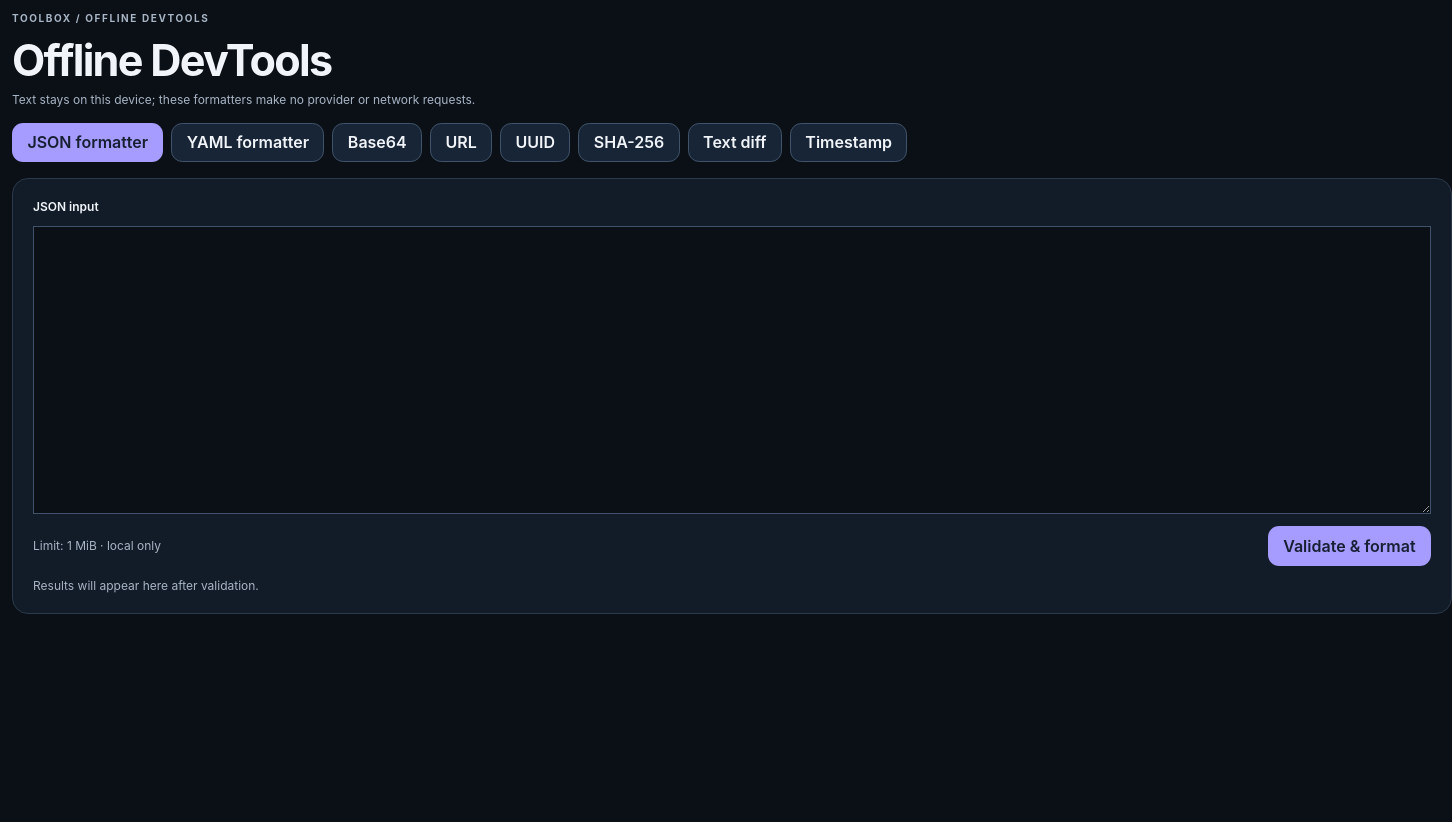
Test: M3-022 timestamp DevTools panel › shows UTC, device-local timezone and both Unix units
Click the button "Timestamp" at (849, 142), box [790,123,907,162]
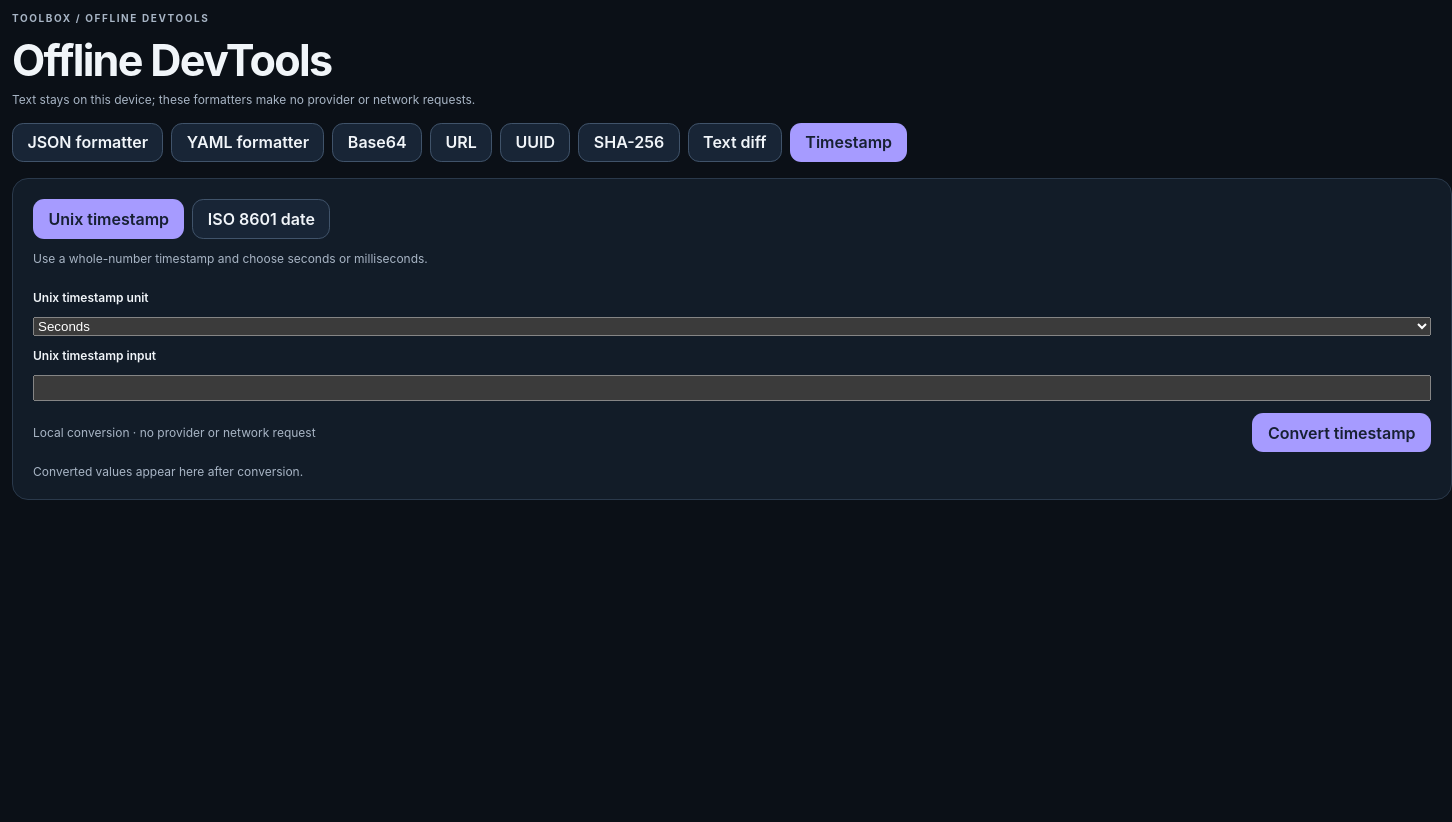
Type "0" into the field labelled "Unix timestamp input" at (732, 388), box [33,375,1431,401]
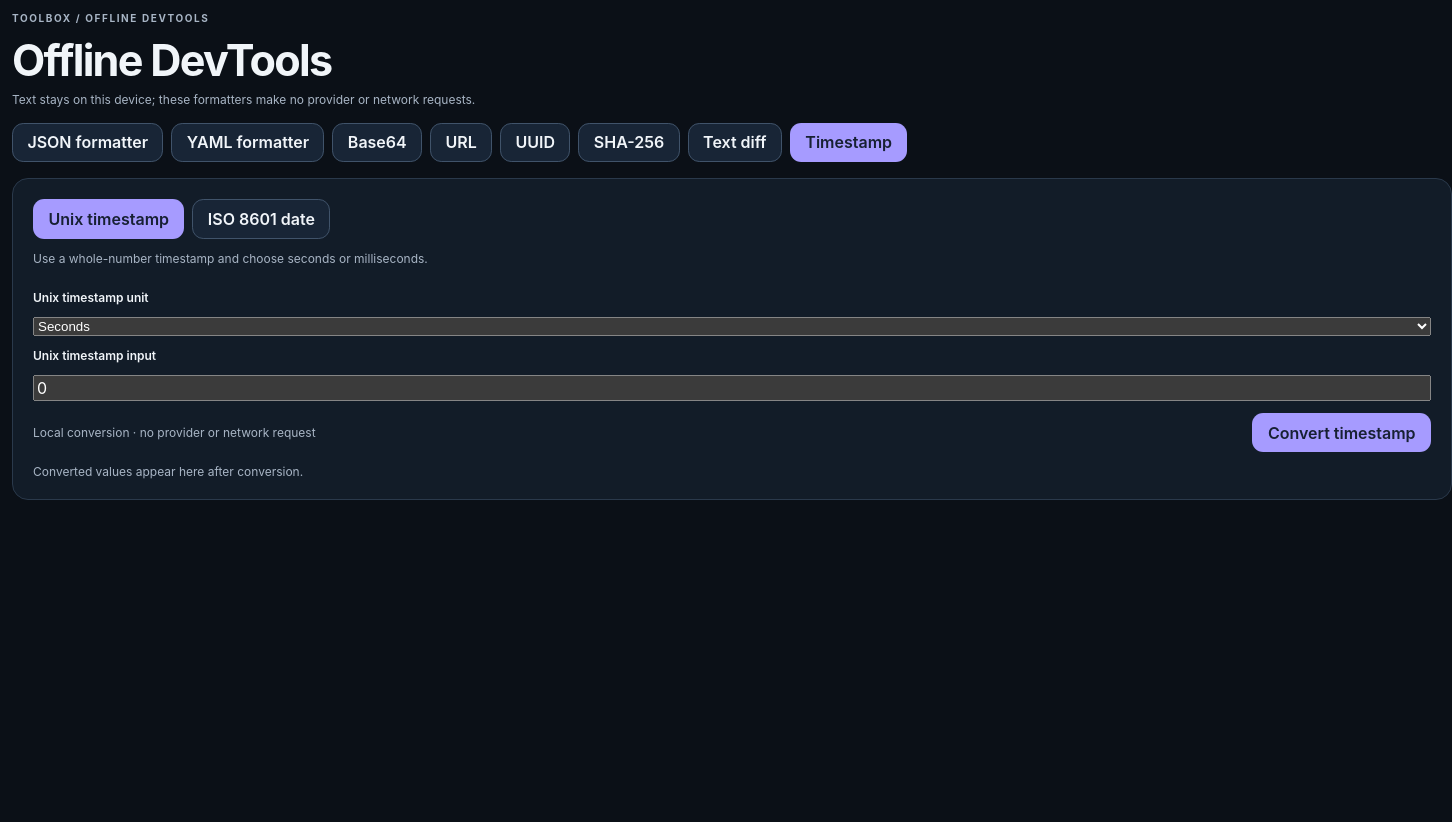
Click the button "Convert timestamp" at (1342, 433), box [1252,413,1431,452]
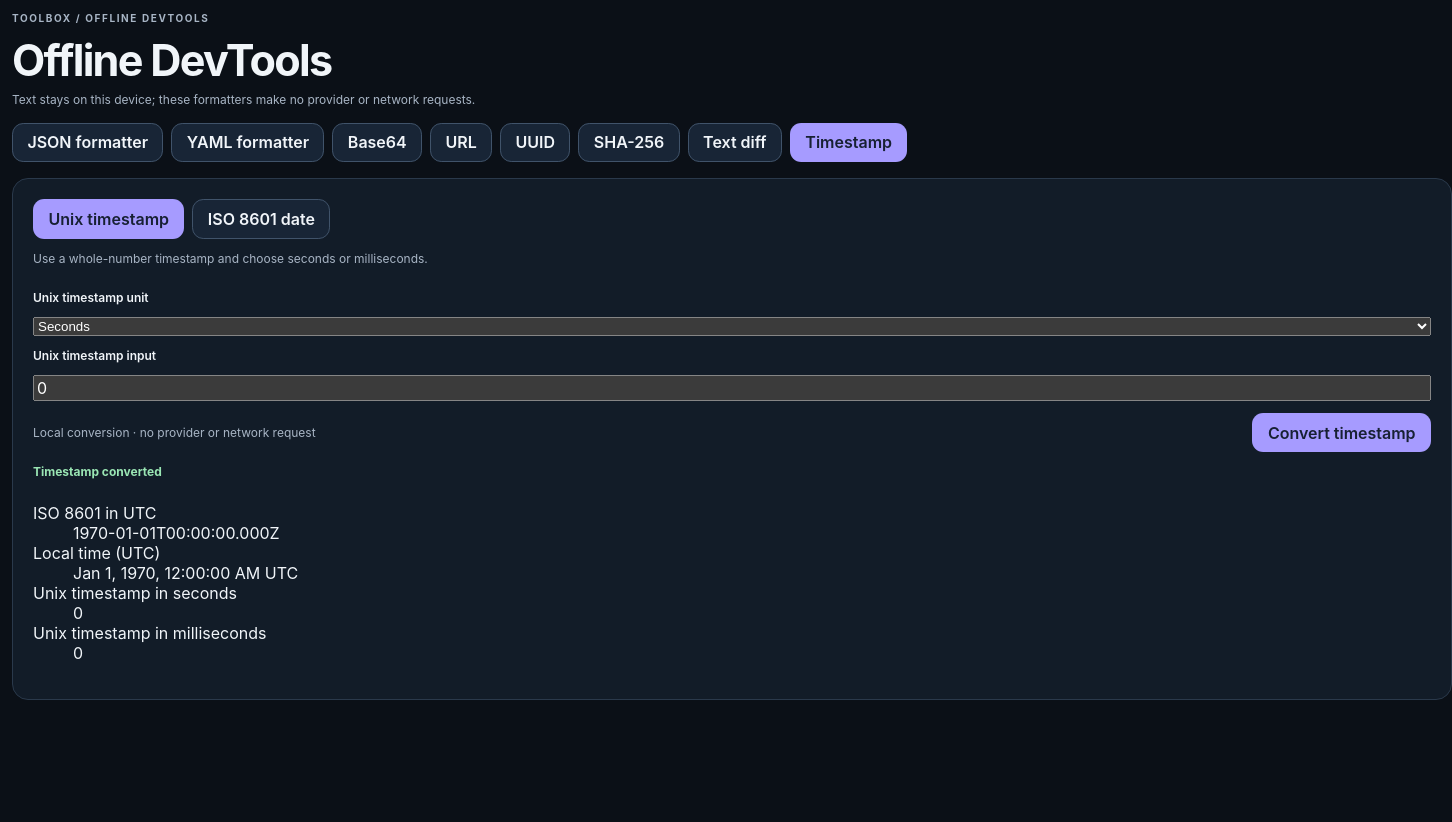
Result: the message reads "Timestamp converted" at [33,464,162,479]
Result: the text "1970-01-01T00:00:00.000Z" is shown at [73,523,280,543]
Result: the text "Local time (UTC)" is shown at [33,543,160,563]
